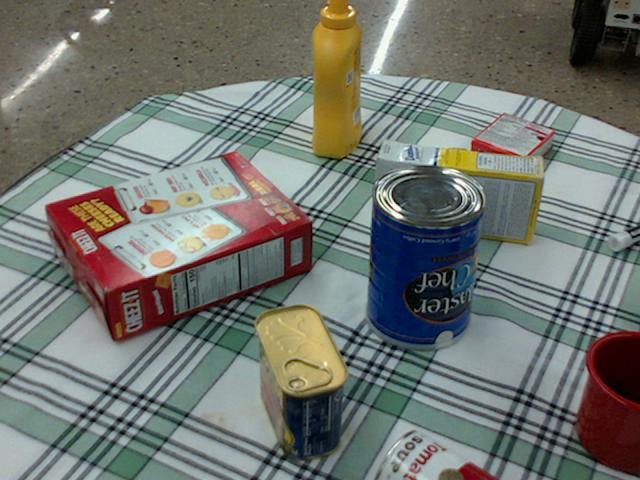cracker_box: (45, 152, 308, 340)
gelatin_box: (468, 113, 553, 177)
large_marker: (607, 223, 639, 250)
master_chef_can: (365, 164, 488, 348)
mug: (574, 330, 639, 472)
mustard_bottle: (311, 0, 361, 157)
potted_meat_can: (254, 304, 348, 459)
sugar_box: (371, 141, 543, 244)
tomato_soup_can: (375, 431, 497, 479)
